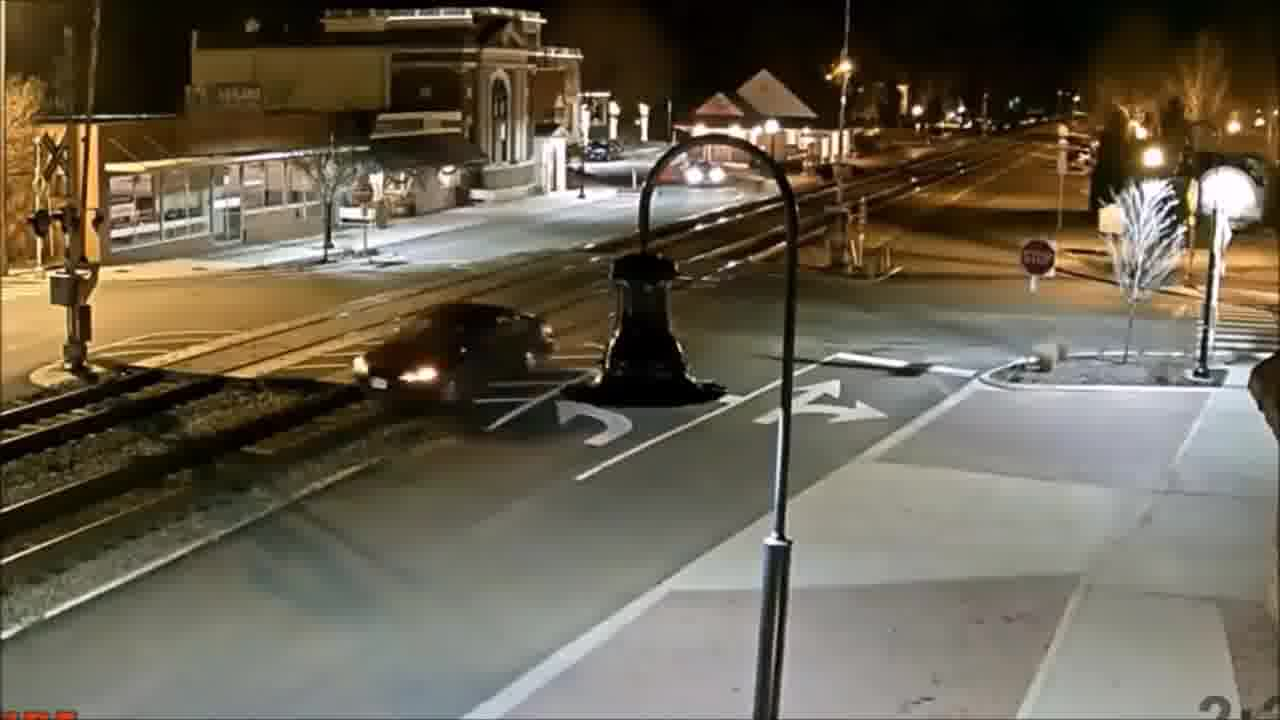crossing railway track: (354, 293, 552, 396)
